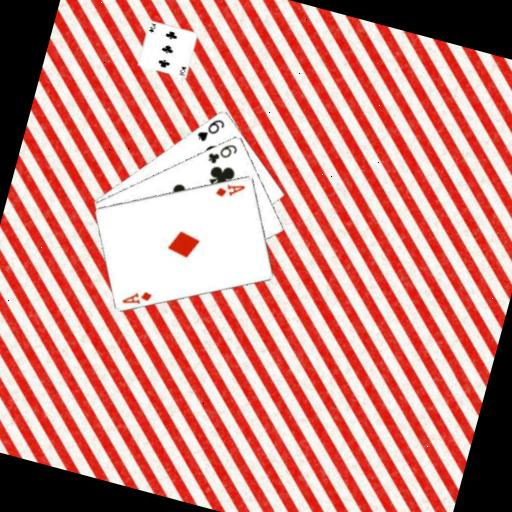6C: (202, 135, 240, 170)
6S: (193, 111, 228, 147)
AD: (118, 282, 155, 312), (212, 174, 248, 203)
